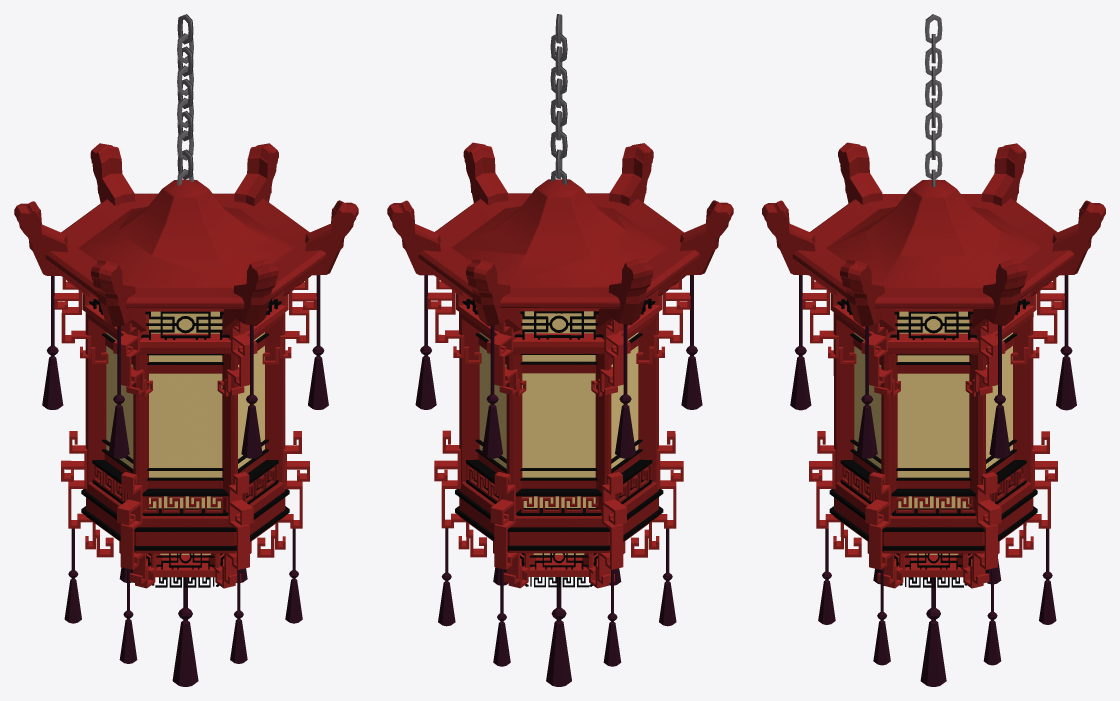
The model's file is module_2_-_chinese_lantern.glb.
3 renders of one model, left to right at view 1: azimuth 30°, elevation 25°; view 2: azimuth 150°, elevation 25°; view 3: azimuth 270°, elevation 25°, orthographic.
Parts seen in each view (by area): view 1: Cube_Chain_0; view 2: Cube_Chain_0; view 3: Cube_Chain_0.
Boxes of the visible parts, <box> form: Cube_Chain_0: <box>14,14,358,686</box>; Cube_Chain_0: <box>387,14,733,686</box>; Cube_Chain_0: <box>762,14,1105,686</box>.
Size of the model in its own units: 3.04 by 7.4 by 3.43.
Materials: 1 (1 with a texture image).
